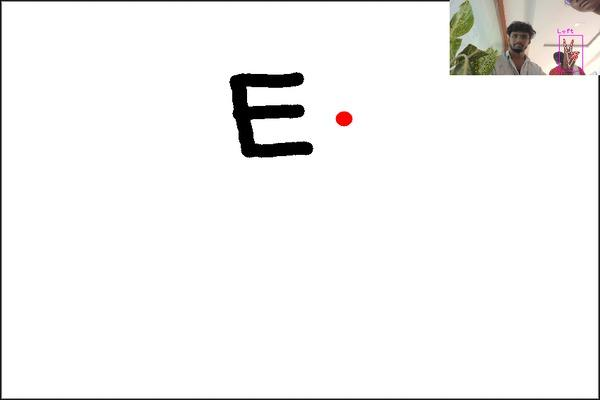E: (225, 67, 323, 160)
